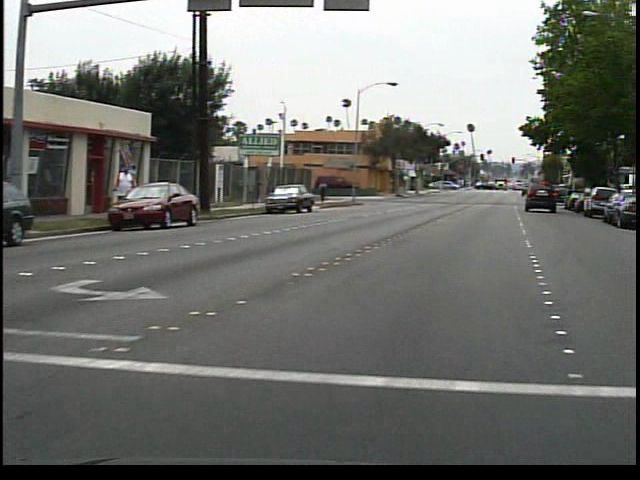person: (115, 158, 144, 222), (321, 176, 336, 205)
